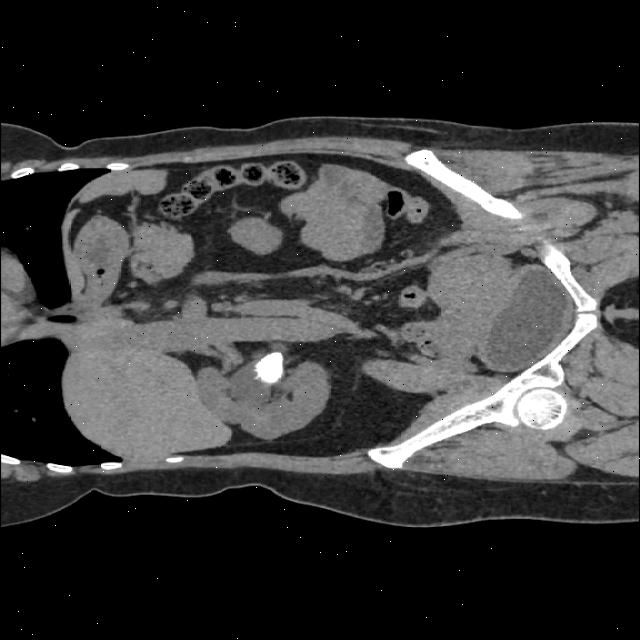kidneystone: (255, 351, 283, 382)
